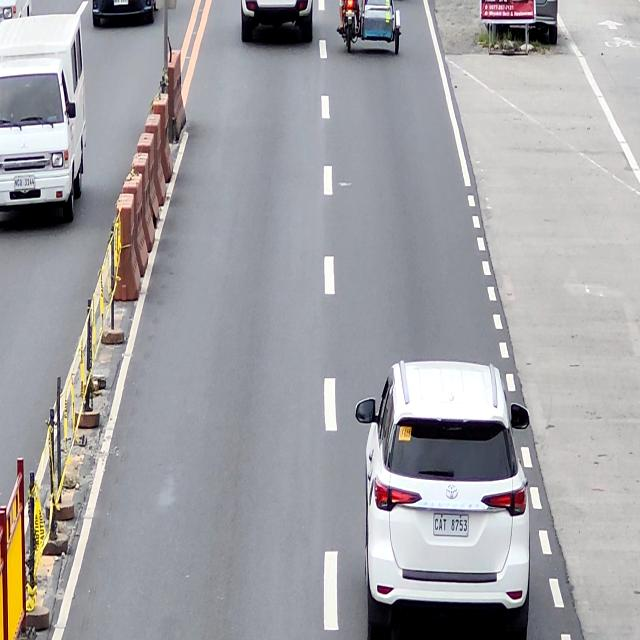Car: (358, 357, 530, 640), (239, 0, 313, 46)
License-Plate: (433, 513, 469, 539)
Tricycle: (341, 0, 402, 56)
